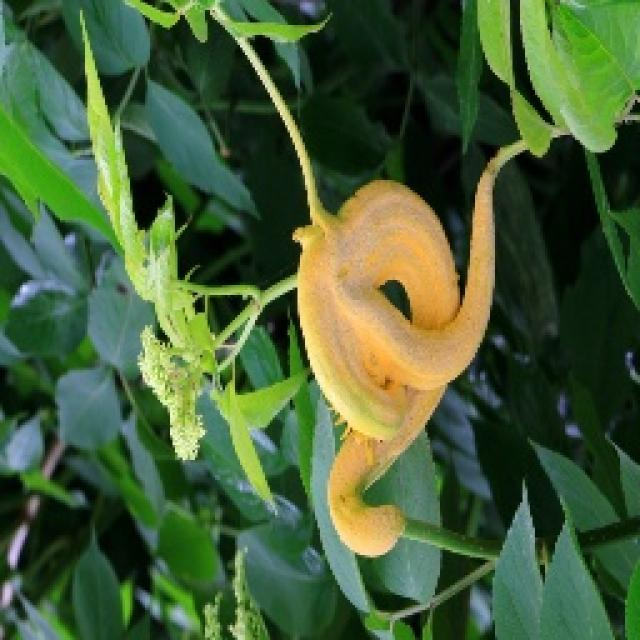Elderberry_rust: (288, 155, 502, 557)
